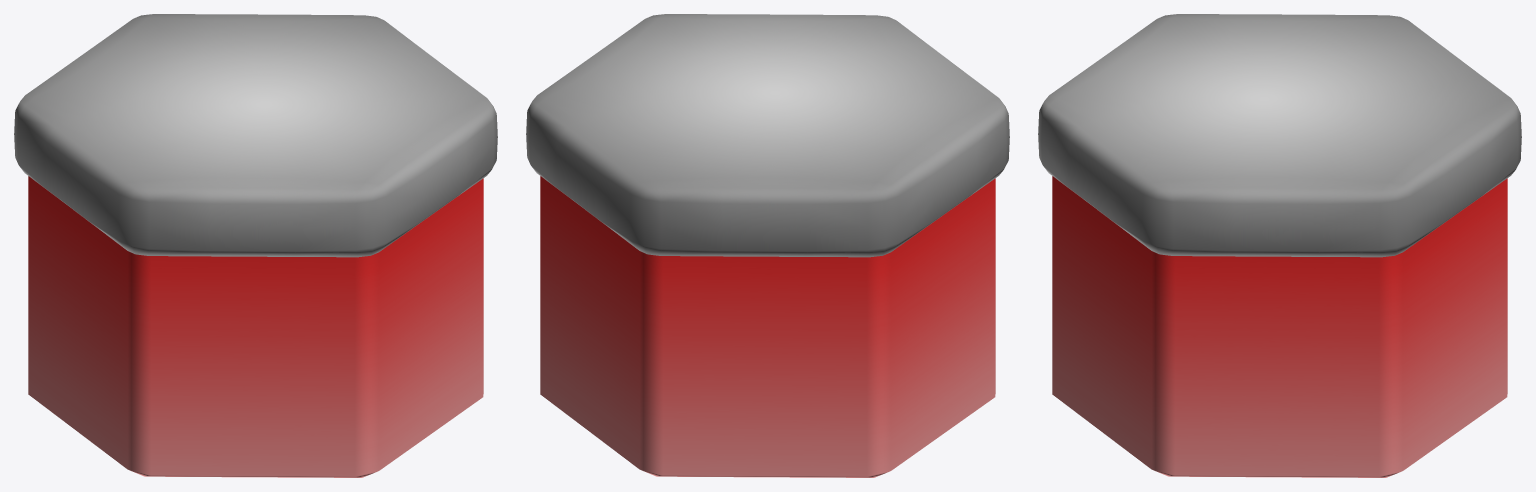
Rendered from TILE_Support.fbx.
3 views of the same model, side by side, from view 1: azimuth 30°, elevation 25°; view 2: azimuth 150°, elevation 25°; view 3: azimuth 270°, elevation 25° (orthographic).
Visible parts, largest first — view 1: Cylinder.025, Cylinder.026; view 2: Cylinder.025, Cylinder.026; view 3: Cylinder.025, Cylinder.026.
Part boxes in pixels (<box>): Cylinder.025: <box>28,176,483,477</box>; Cylinder.026: <box>14,14,497,257</box>; Cylinder.025: <box>540,176,995,477</box>; Cylinder.026: <box>526,14,1009,257</box>; Cylinder.025: <box>1052,176,1507,477</box>; Cylinder.026: <box>1038,14,1521,257</box>.
Size of the model in its own units: 1144 by 857 by 1257.
